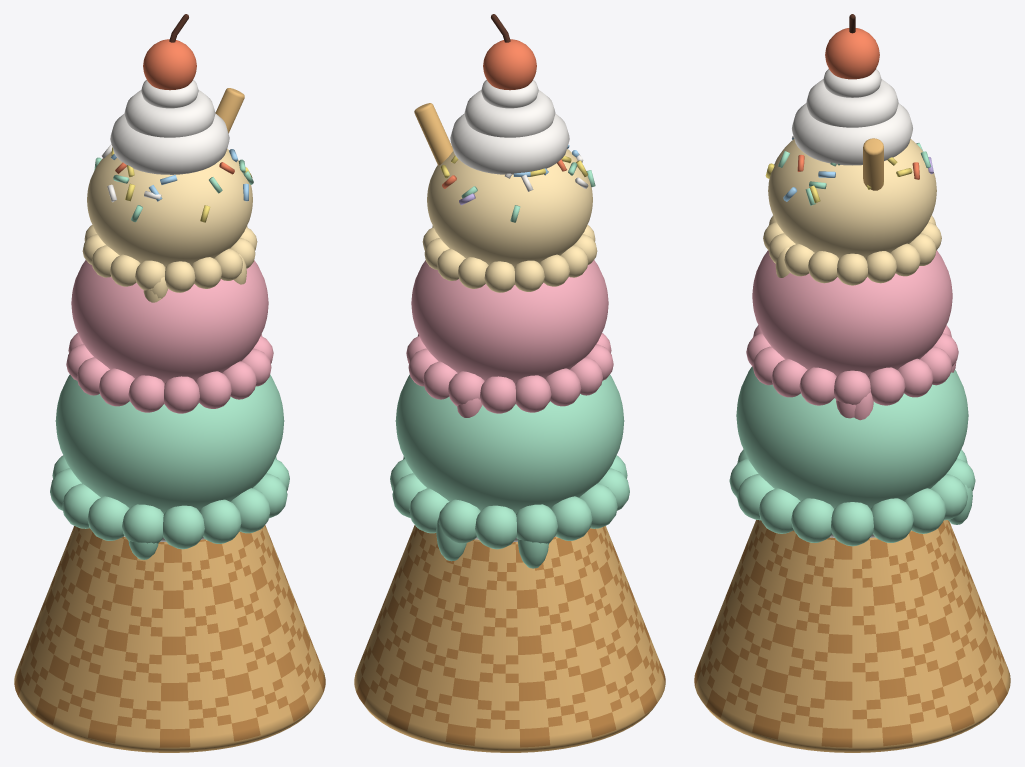
File: ice_cream_tower.glb
3 views of the same model, side by side, from view 1: azimuth 30°, elevation 25°; view 2: azimuth 150°, elevation 25°; view 3: azimuth 270°, elevation 25° (orthographic).
Visible parts, largest first — view 1: ice_cream_tower; view 2: ice_cream_tower; view 3: ice_cream_tower.
Part boxes in pixels (x1,y1,x2,y2): ice_cream_tower: [14, 14, 325, 752]; ice_cream_tower: [354, 14, 665, 752]; ice_cream_tower: [694, 14, 1010, 752].
Size of the model in its own units: 3 by 7.13 by 3.
